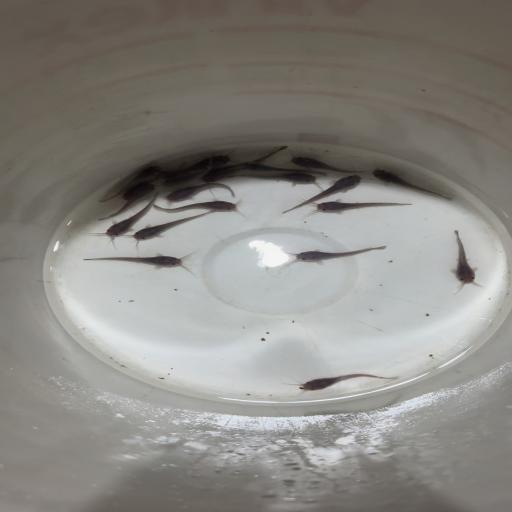lele: (277, 174, 365, 214), (202, 145, 289, 184), (97, 192, 163, 242), (127, 210, 218, 243), (80, 250, 204, 274), (86, 164, 162, 202), (443, 230, 487, 293), (371, 168, 455, 200), (274, 244, 388, 267), (283, 372, 400, 393), (98, 184, 159, 223), (164, 152, 222, 189), (309, 198, 414, 215), (151, 199, 246, 217), (289, 154, 377, 173), (164, 182, 237, 204), (176, 150, 234, 176), (240, 161, 328, 176), (231, 172, 318, 186), (119, 178, 158, 200), (154, 165, 194, 181)
